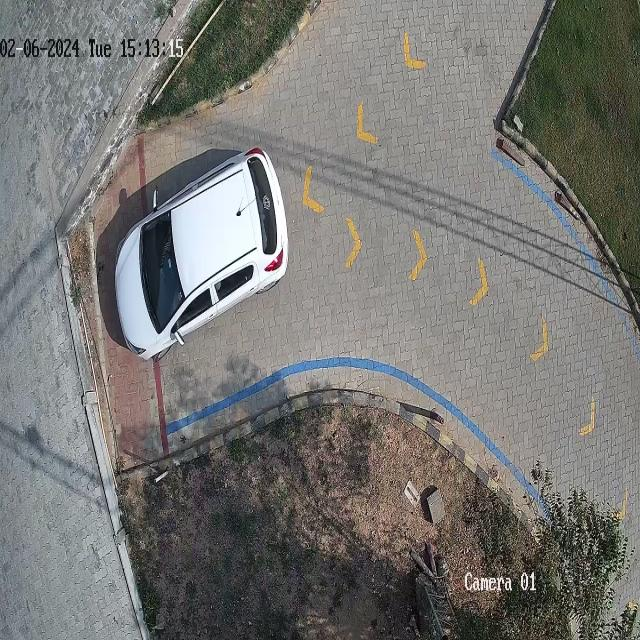car: (112, 147, 290, 360)
